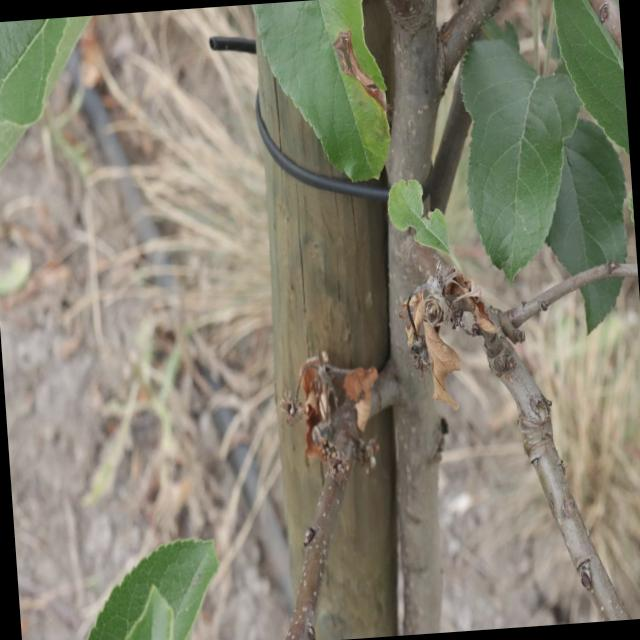-FireBlight-: (279, 335, 381, 463), (395, 272, 499, 393), (329, 37, 396, 116)
